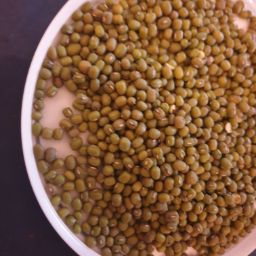Green gram dal(moong): (74, 5, 229, 256), (30, 23, 135, 256), (172, 5, 256, 256)
